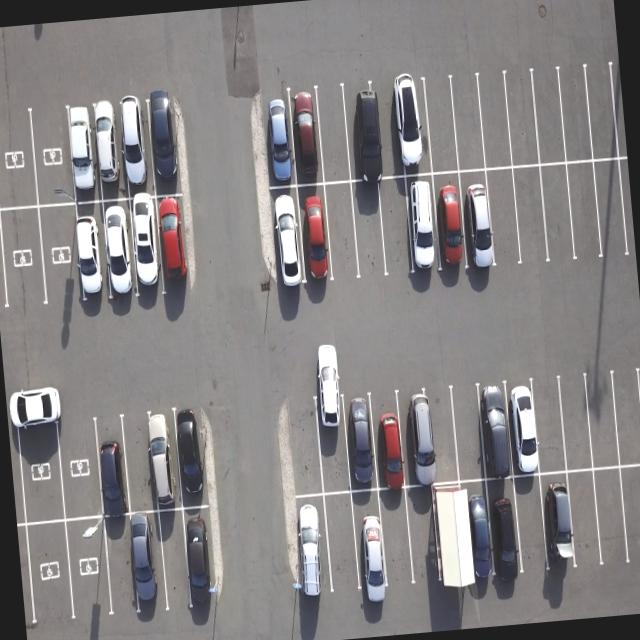car: (444, 480, 498, 596), (63, 514, 115, 620), (480, 474, 528, 581), (291, 492, 336, 606), (347, 484, 392, 595), (126, 512, 172, 617), (153, 192, 200, 294), (340, 78, 386, 180), (294, 182, 338, 288), (180, 506, 224, 612), (397, 390, 443, 490), (67, 199, 109, 308), (537, 467, 581, 571), (456, 166, 499, 272), (474, 383, 520, 482), (365, 388, 410, 489), (100, 196, 142, 304), (426, 169, 468, 275), (311, 390, 353, 496), (338, 390, 381, 492), (140, 409, 183, 511), (90, 412, 132, 516), (125, 194, 166, 300), (498, 379, 542, 476), (392, 78, 434, 178), (172, 406, 214, 506), (402, 173, 443, 275), (287, 86, 328, 188), (270, 185, 308, 292), (116, 98, 154, 199), (147, 96, 185, 196), (64, 104, 100, 204), (263, 90, 299, 190), (92, 100, 128, 196)
free: (12, 408, 64, 526), (54, 407, 107, 520), (22, 520, 74, 628), (36, 200, 85, 312), (424, 482, 472, 590), (321, 492, 366, 604), (0, 205, 46, 314), (29, 104, 76, 208), (506, 474, 552, 580), (120, 410, 167, 513), (560, 468, 606, 572), (586, 462, 632, 565), (373, 488, 417, 594), (283, 395, 327, 500), (444, 384, 488, 484), (554, 371, 598, 471), (560, 158, 602, 262), (98, 514, 140, 617), (580, 372, 623, 472), (536, 160, 578, 262), (313, 82, 355, 183), (512, 163, 554, 264), (594, 158, 634, 264), (154, 509, 194, 615), (529, 378, 572, 476), (376, 176, 418, 276), (322, 181, 363, 282), (481, 166, 522, 266), (422, 391, 464, 488), (556, 68, 597, 167), (402, 486, 442, 587), (347, 180, 388, 278), (584, 62, 625, 160), (528, 69, 568, 166), (504, 70, 544, 166), (419, 78, 458, 175), (0, 103, 35, 211), (449, 76, 488, 172), (474, 74, 513, 170), (372, 82, 406, 183), (609, 366, 640, 468), (617, 463, 640, 567)
